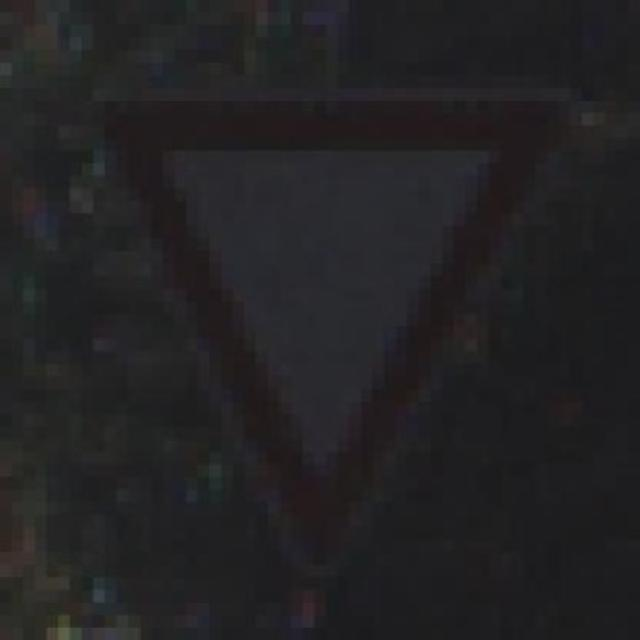Give Way: (66, 45, 602, 572)
